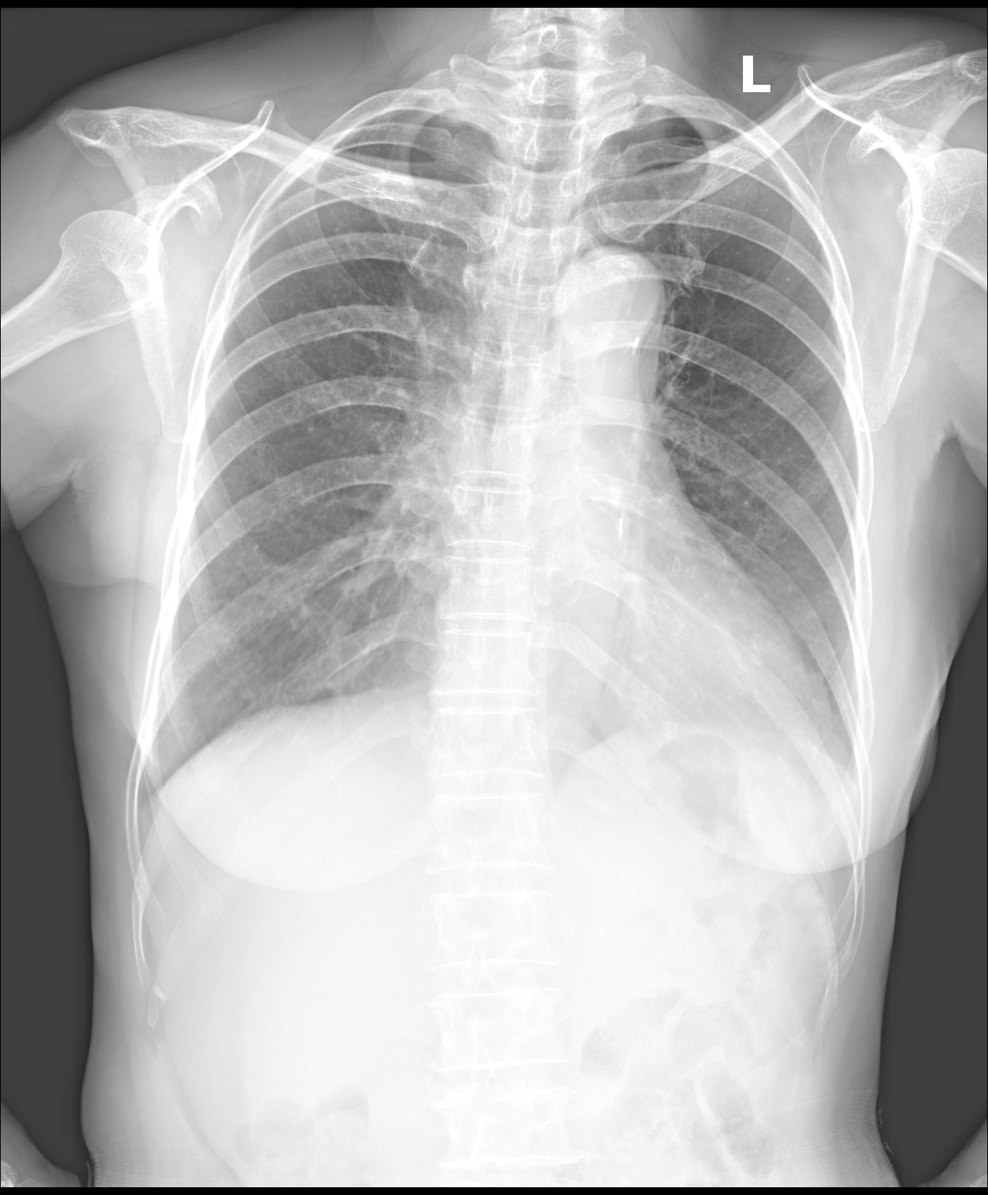Aortic enlargement: (554, 252, 667, 377)
Cardiomegaly: (419, 601, 840, 760)
